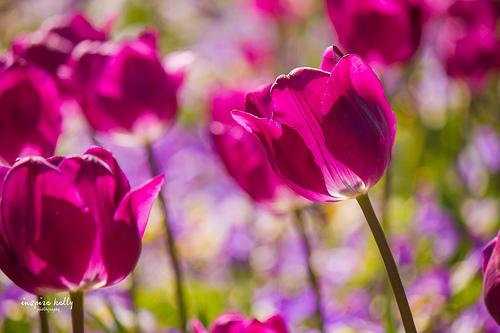tulip: (234, 48, 396, 200), (0, 151, 161, 288)
